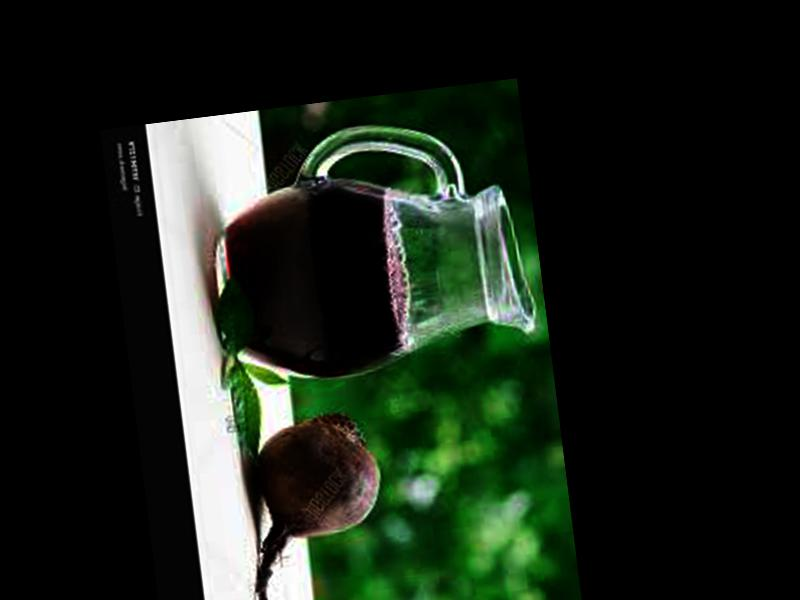Beet: (234, 410, 397, 600)
